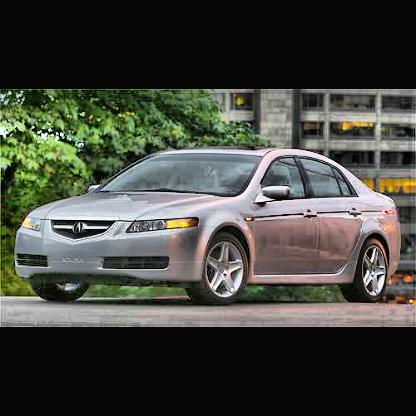Acura TL Type-S 2008: (16, 146, 404, 304)
